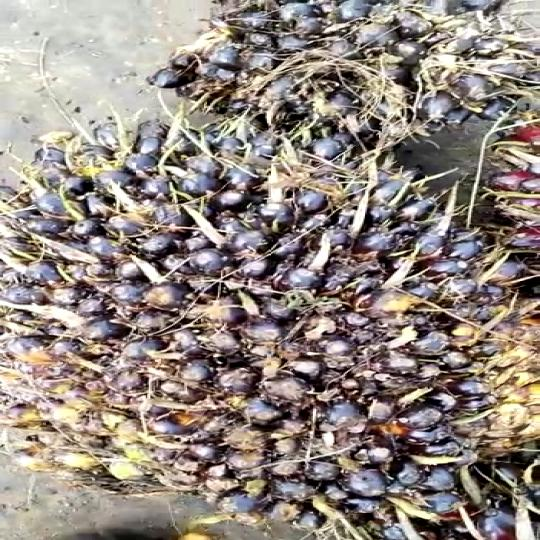mentah: (13, 120, 528, 535)
